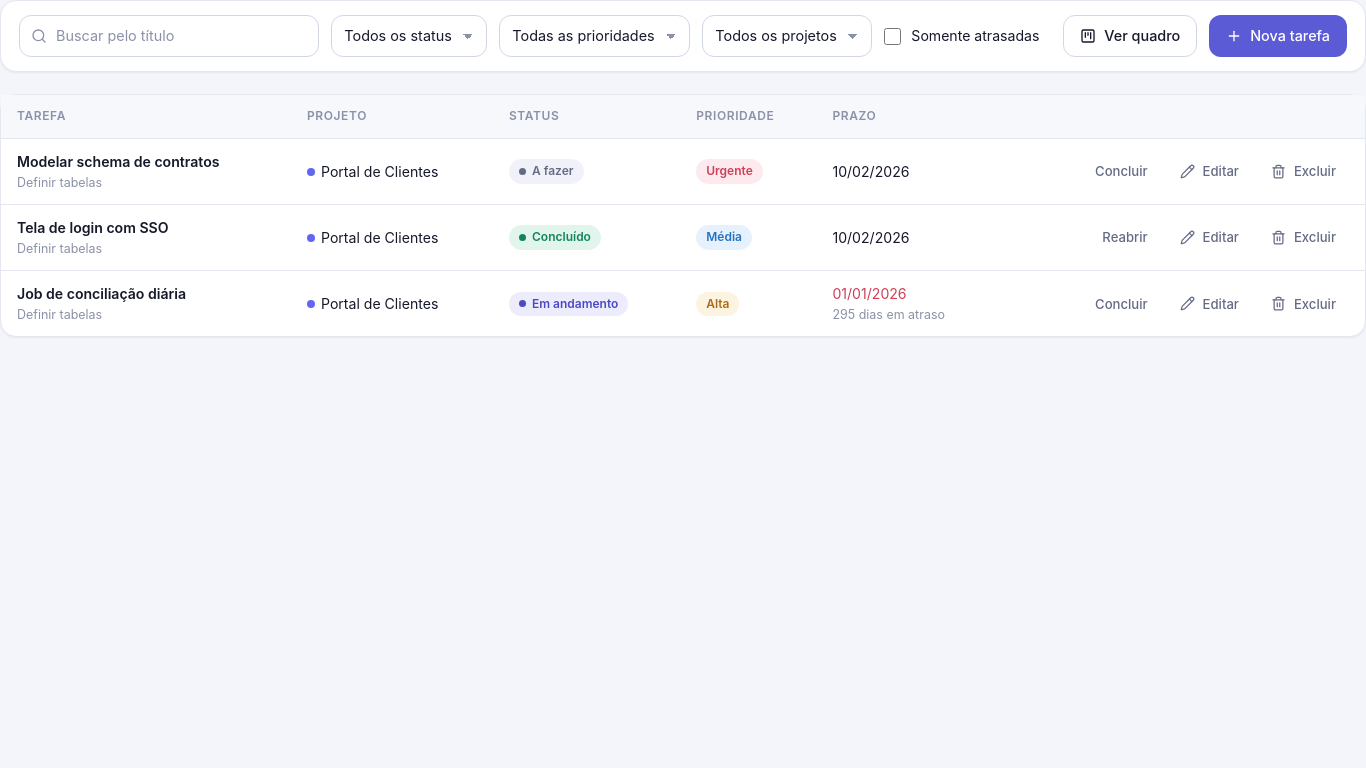
TasksPage › cria uma tarefa com os dados preenchidos
Expected: the text "Modelar schema de contratos" is shown, [17,153,220,170]
Click the button "Nova tarefa" at coordinates (1278, 36), box [1209,15,1347,57]
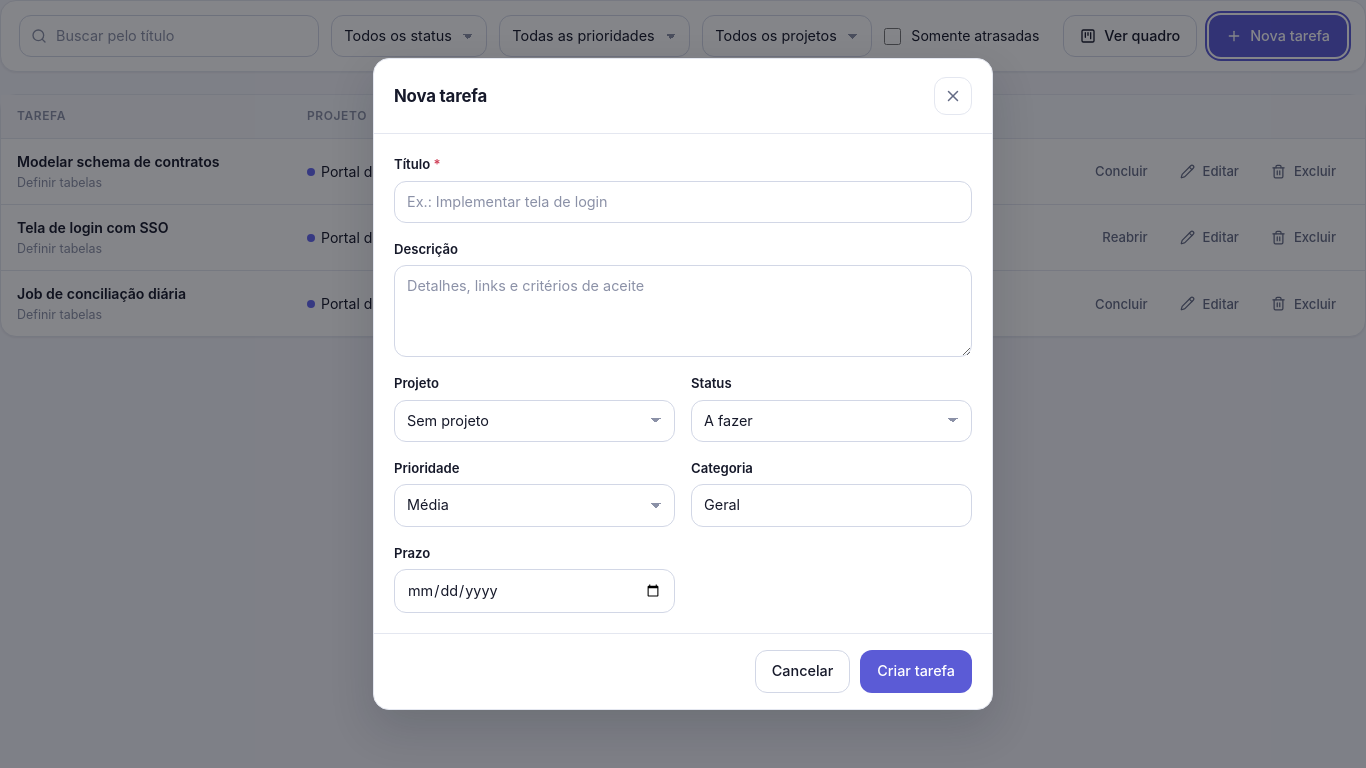
Type "Tarefa nova" into the field labelled "Título *" at coordinates (683, 202), box [394,181,972,223]
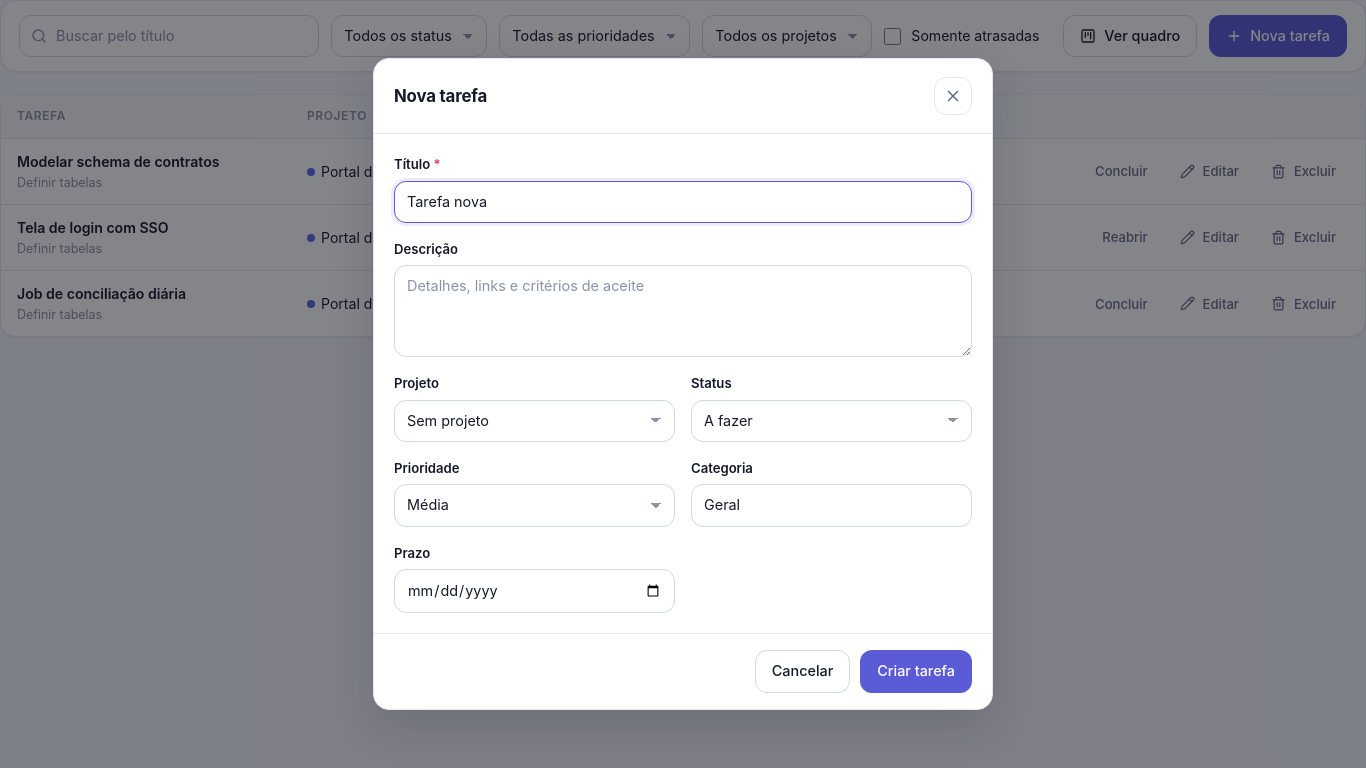
Select "Em andamento" in the dropdown labelled "Status" at coordinates (832, 421), box [691,400,972,442]
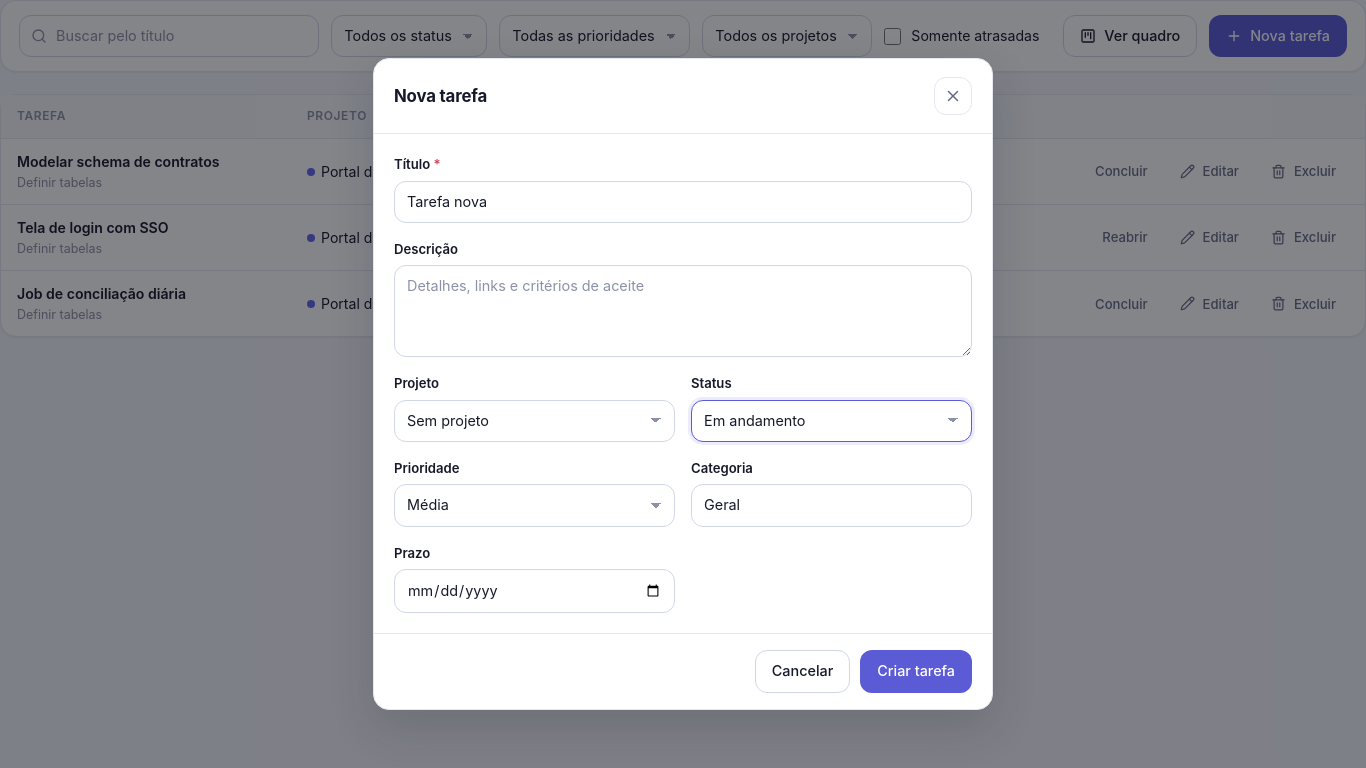
Click the button "Criar tarefa" at coordinates (916, 671), box [860,650,972,693]
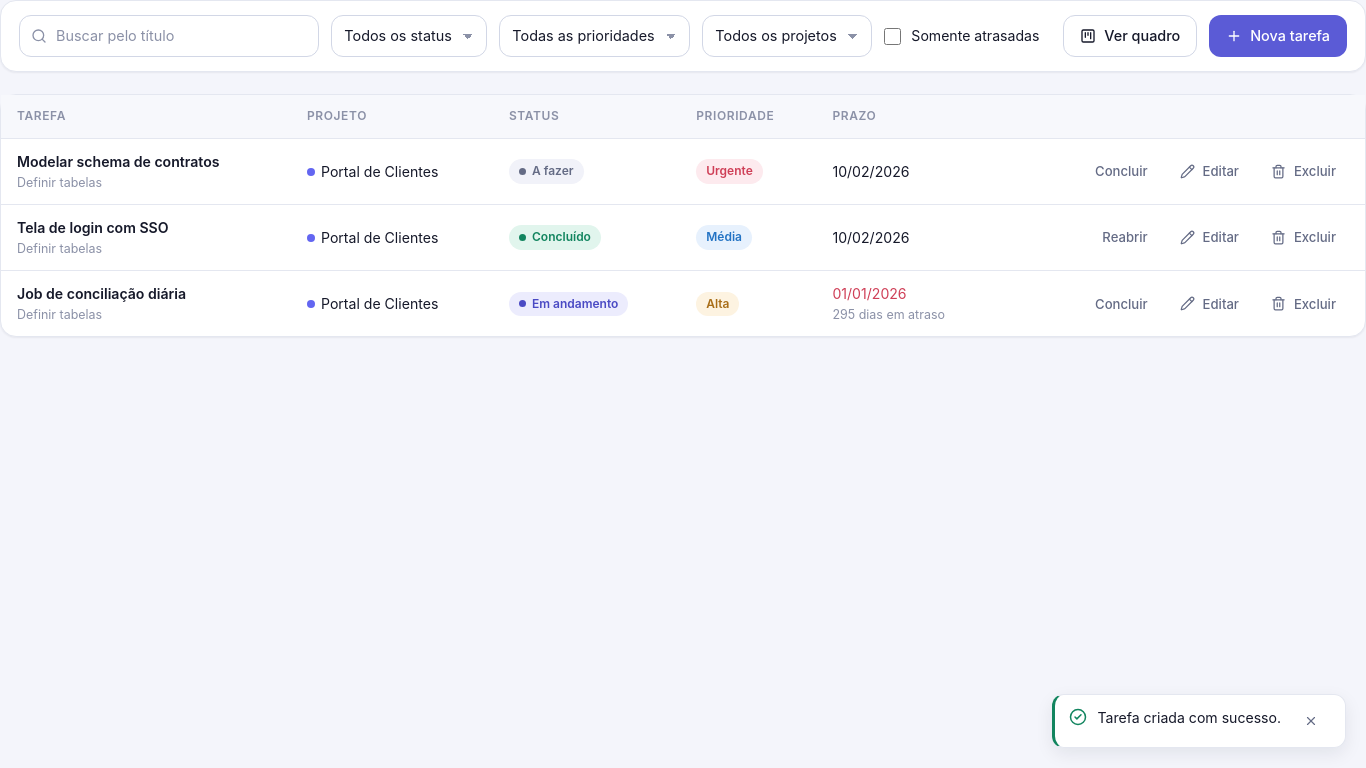
Expected: the text "Tarefa criada com sucesso." is shown, [1098,707,1281,729]
